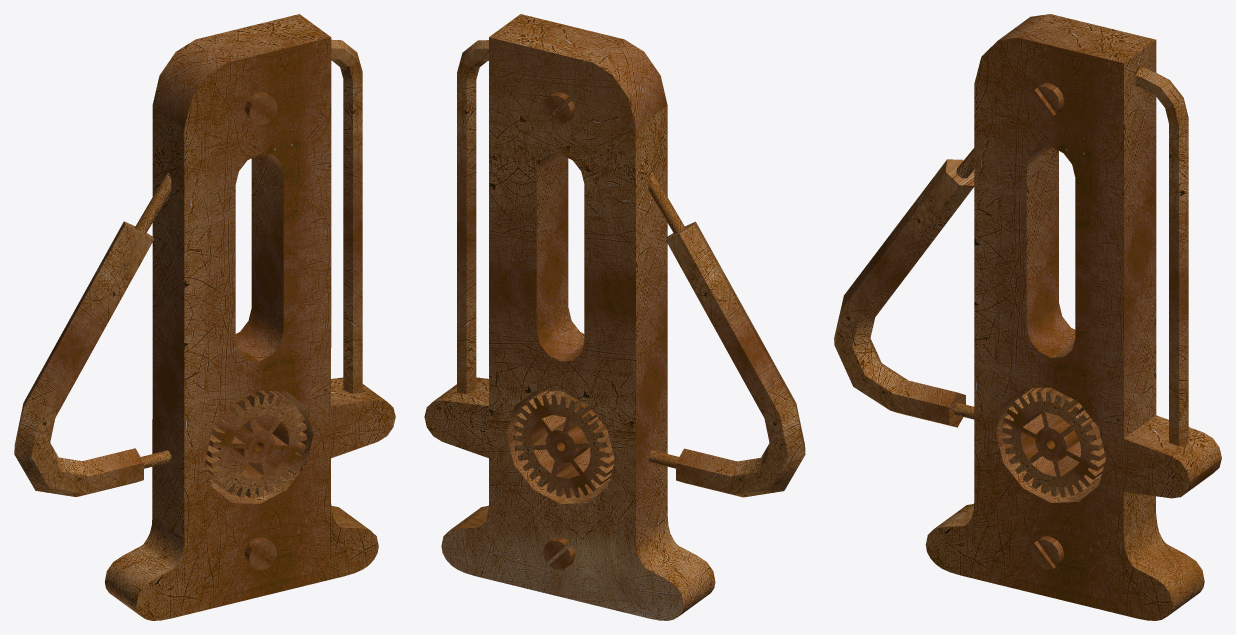
3 renders of one model, left to right at view 1: azimuth 30°, elevation 25°; view 2: azimuth 150°, elevation 25°; view 3: azimuth 330°, elevation 25°, orthographic.
Parts seen in each view (by area): view 1: 4, Tube_0297 (×2), Cogwheel_436, Tube_630, Screw_720, Screw_729; view 2: 4, Tube_0297 (×2), Cogwheel_436, Tube_630, Screw_720, Screw_729; view 3: 4, Tube_0297 (×2), Cogwheel_436, Screw_720, Screw_729.
Part boxes in pixels (x1,y1,x2,y2): 4: (105,14,395,620); Tube_0297 (×2): (14,39,362,496); Cogwheel_436: (205,390,306,498); Tube_630: (135,172,171,234); Screw_720: (245,92,277,124); Screw_729: (245,537,276,569); 4: (424,14,715,620); Tube_0297 (×2): (457,40,805,497); Cogwheel_436: (513,390,614,498); Tube_630: (648,172,685,233); Screw_720: (543,92,574,124); Screw_729: (543,537,575,569); 4: (925,14,1221,620); Tube_0297 (×2): (834,67,1188,446); Cogwheel_436: (1002,387,1105,496); Screw_720: (1031,83,1064,116); Screw_729: (1031,536,1063,569).
Bounding box in the file's own units: 66.41 × 94.17 × 12.89.
1 material, 1 textured.
